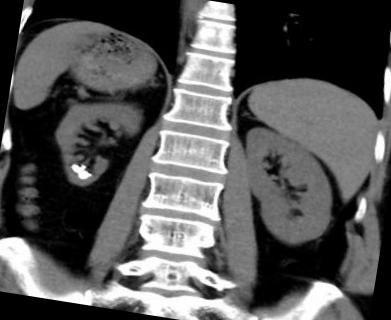Tas_Var: (75, 168, 92, 182), (67, 163, 84, 174), (80, 164, 88, 168)
